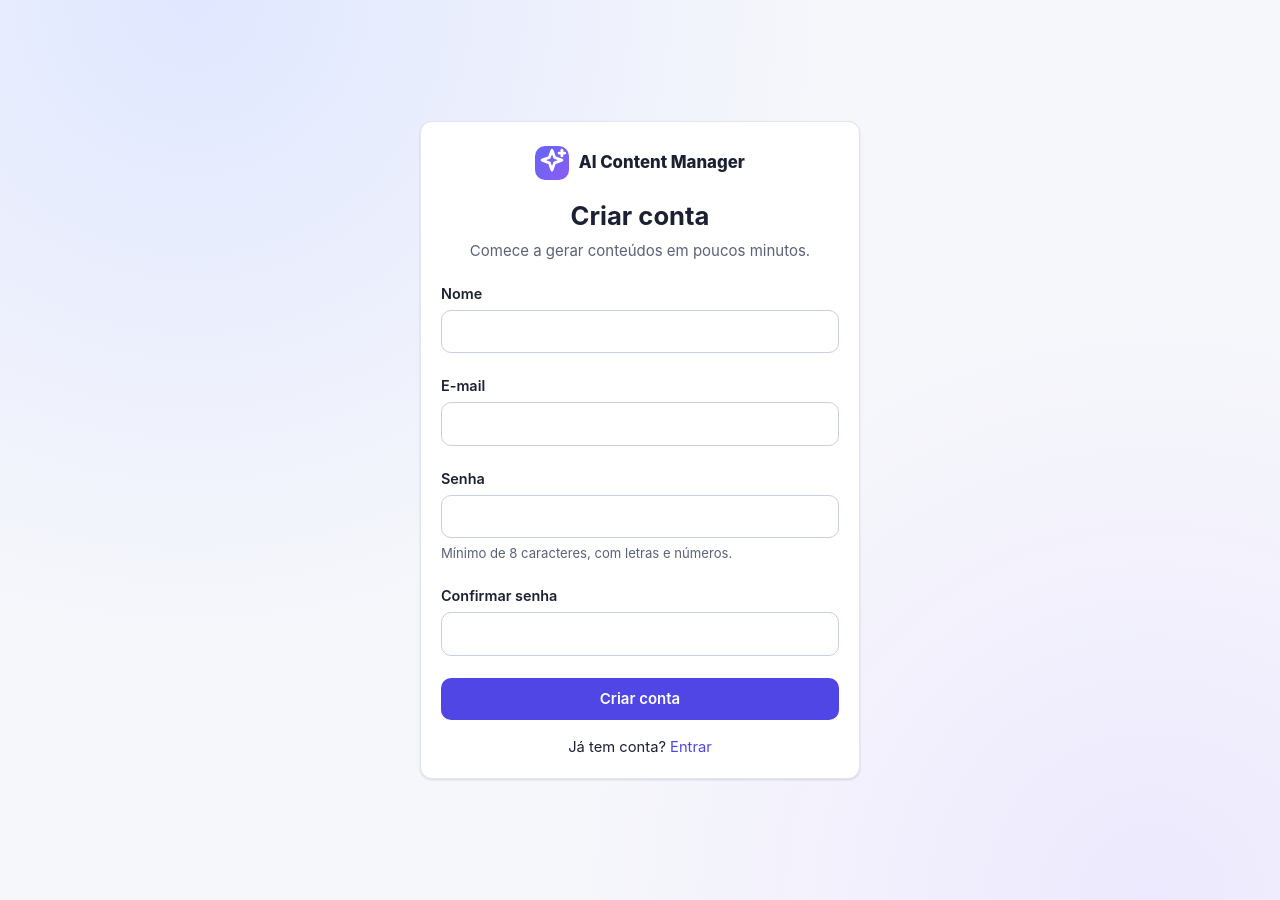
Test: RegisterComponent › mostra erro no campo e-mail quando já cadastrado
The image size is (1280, 900).
Type "Ana Souza" into the field labelled "Nome" at (640, 332), box [441,310,839,354]
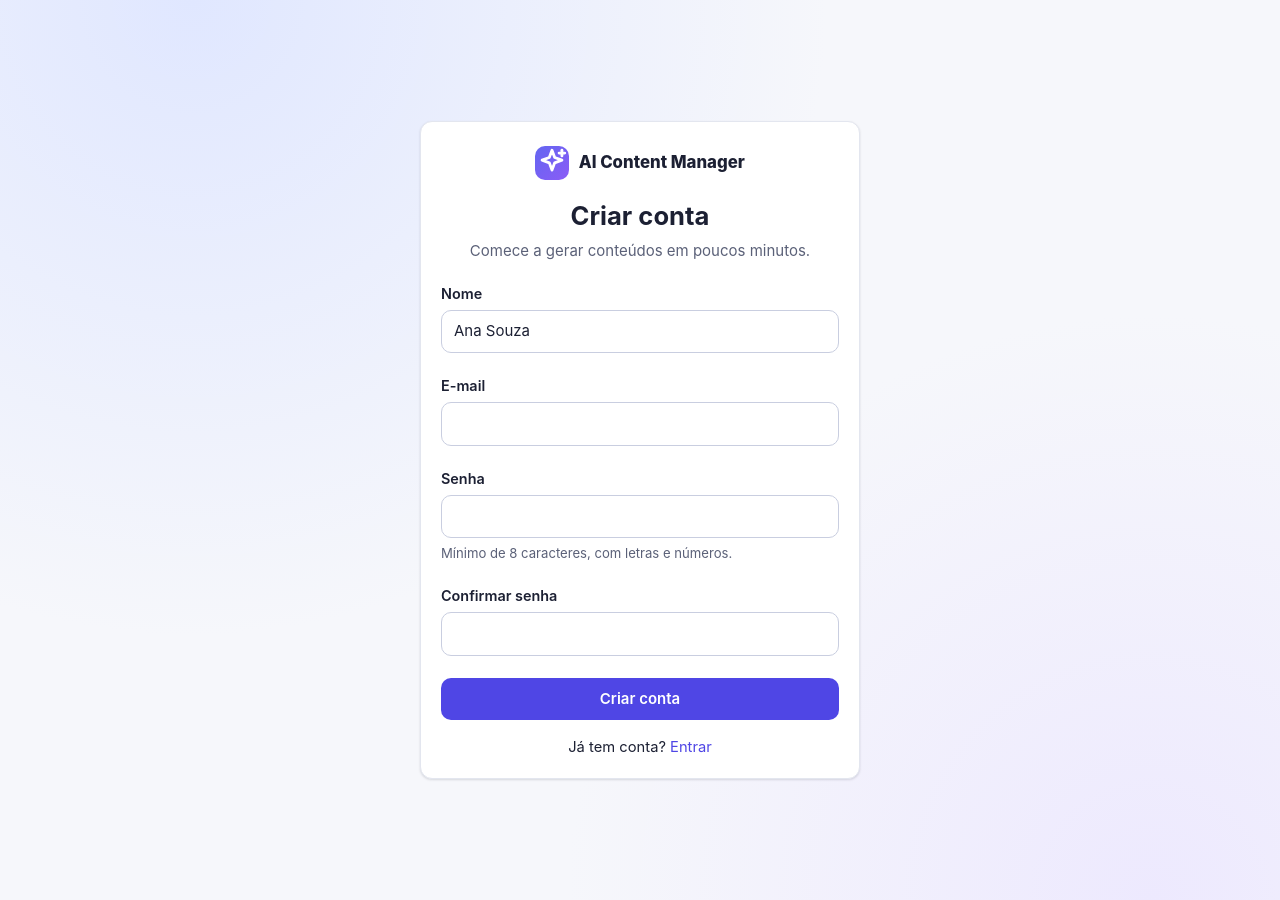
Type "ana@example.com" into the field labelled "E-mail" at (640, 424), box [441,402,839,446]
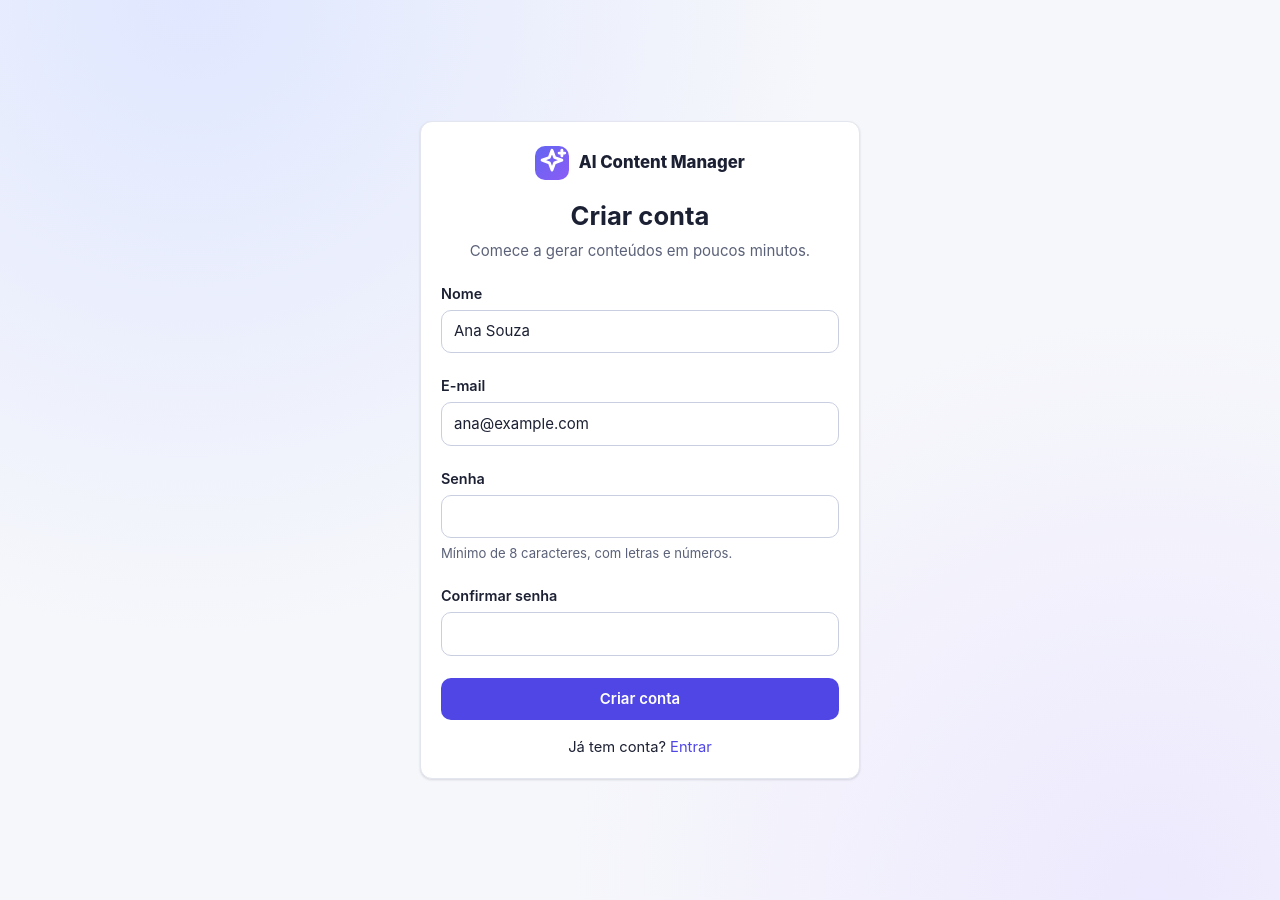
Type "Senha1234" into the password field labelled "Senha" at (640, 517), box [441,495,839,538]
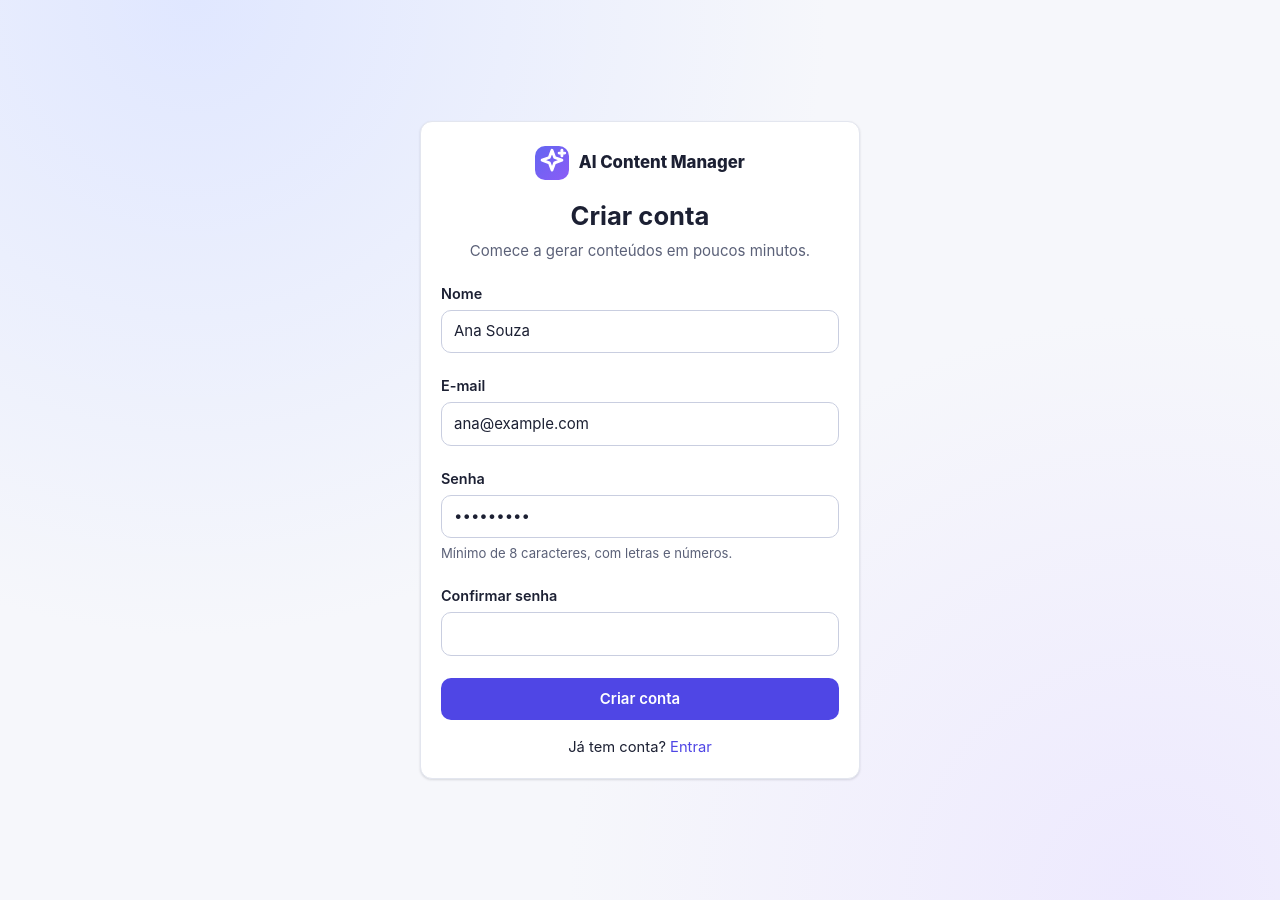
Type "Senha1234" into the password field labelled "Confirmar senha" at (640, 634), box [441,612,839,656]
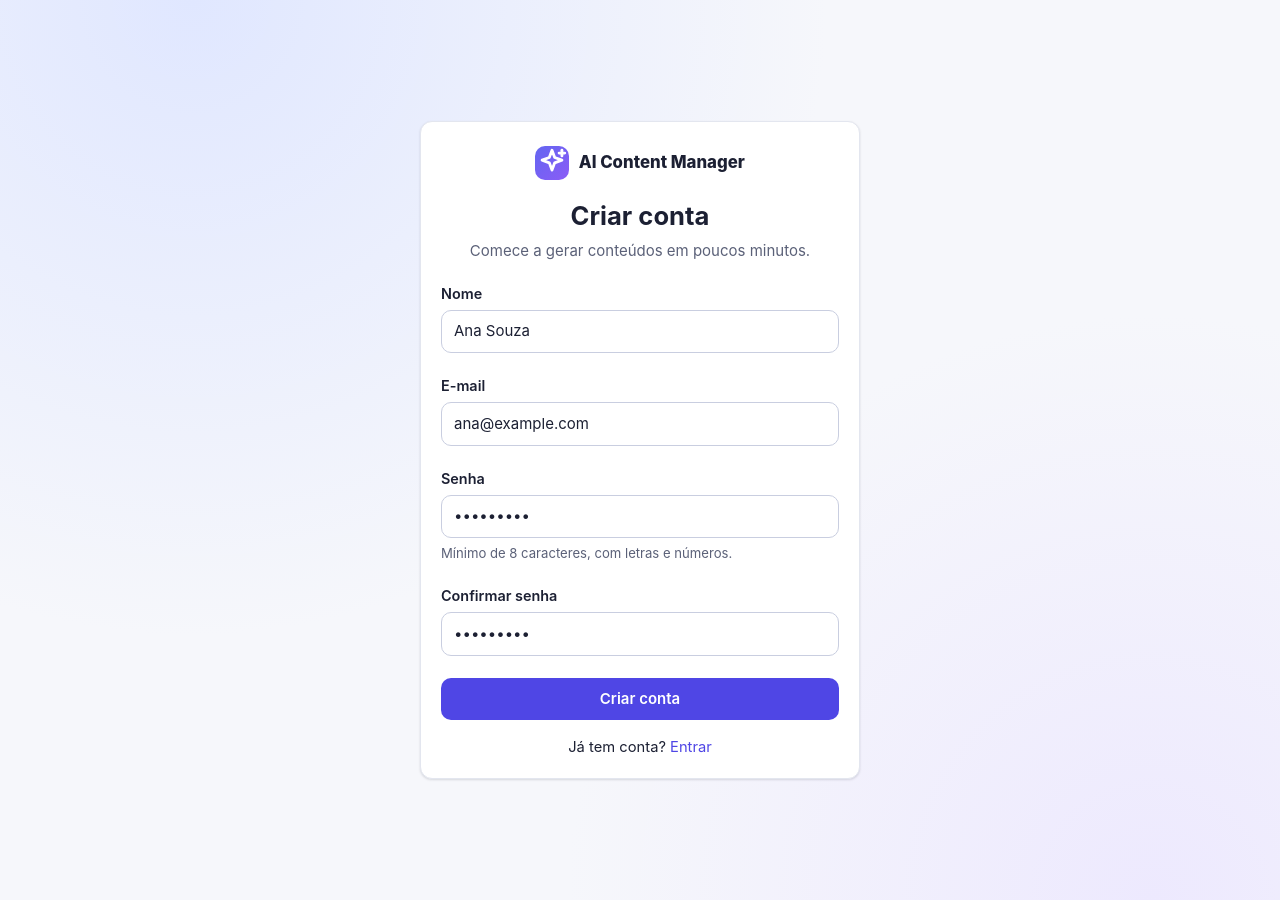
Submit the form, box [441,282,839,720]
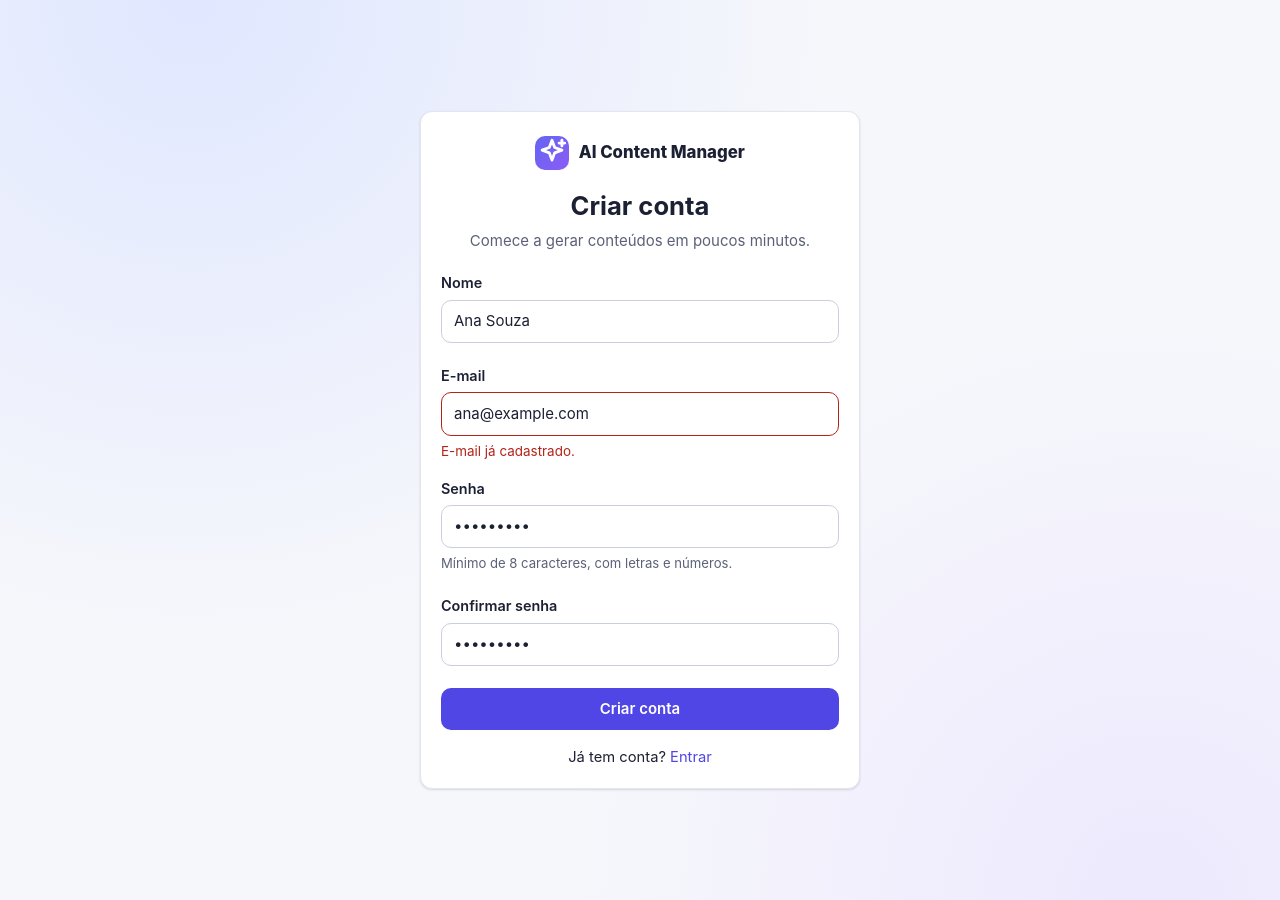
Result: the message "E-mail já cadastrado." is shown at [441,443,575,459]
